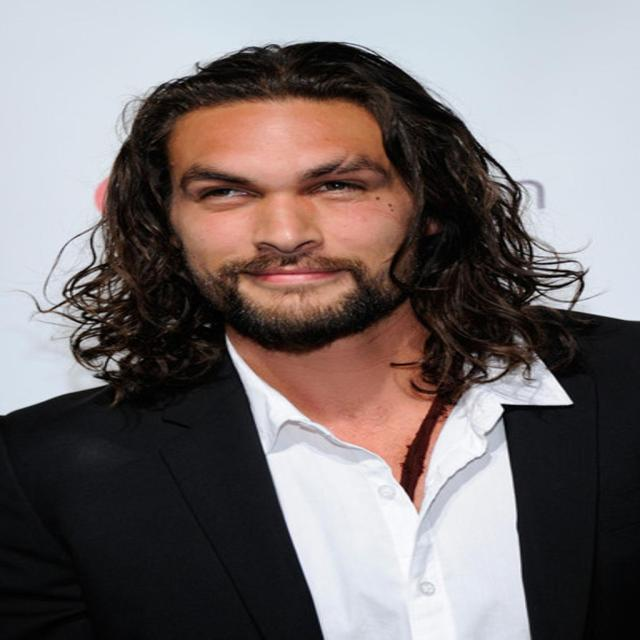Face: (154, 99, 419, 349)
